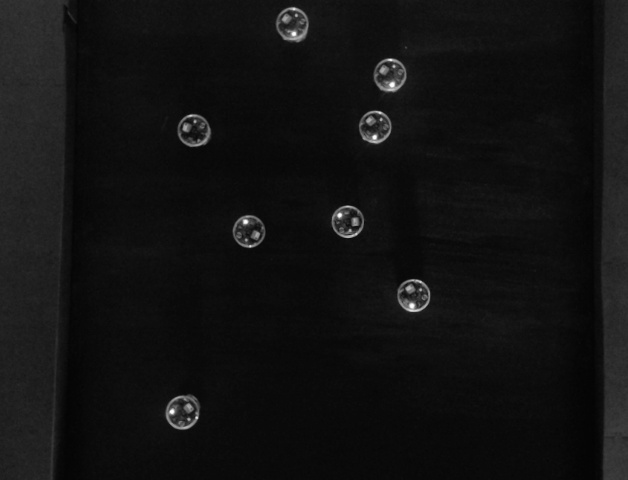epuck_2: (369, 56, 407, 94), (229, 214, 268, 250), (393, 278, 433, 313), (165, 395, 202, 432), (329, 201, 366, 236), (175, 113, 212, 147), (277, 8, 309, 41), (357, 110, 391, 141)
